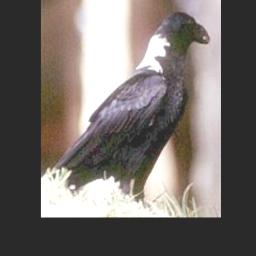Crow: (47, 4, 212, 207)
